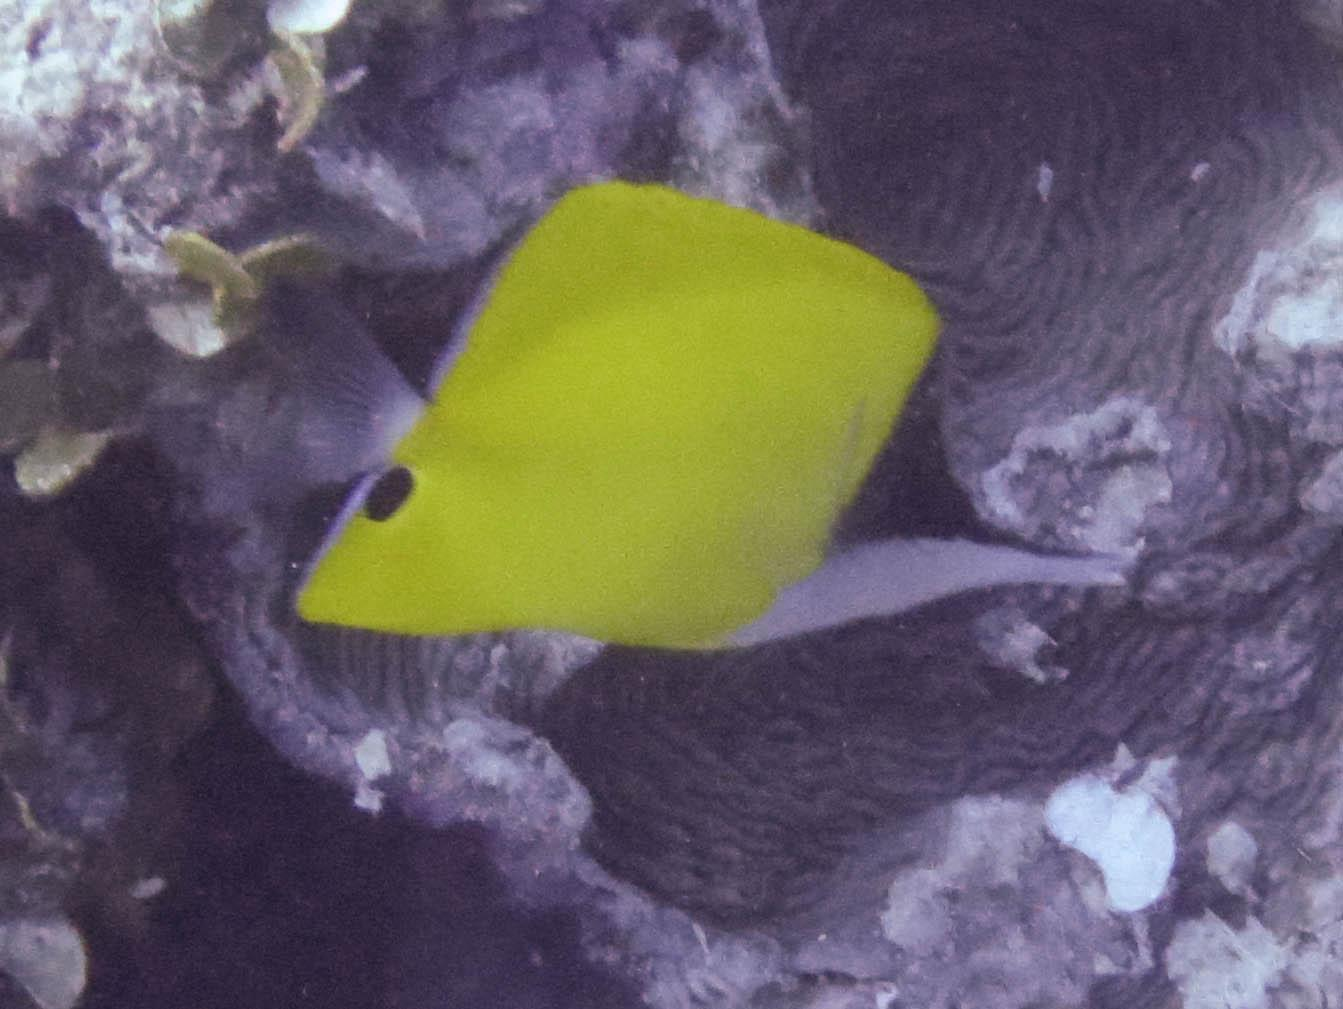Fish: (151, 96, 1158, 807)
